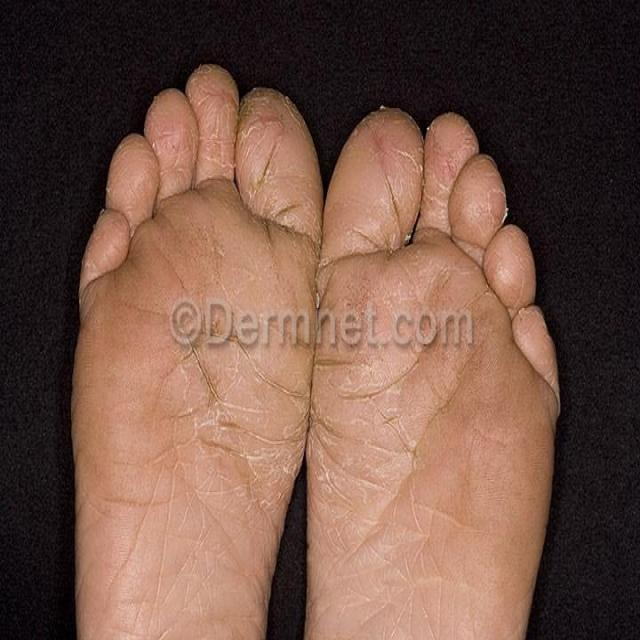liquenificacion 1: (131, 271, 455, 639)
